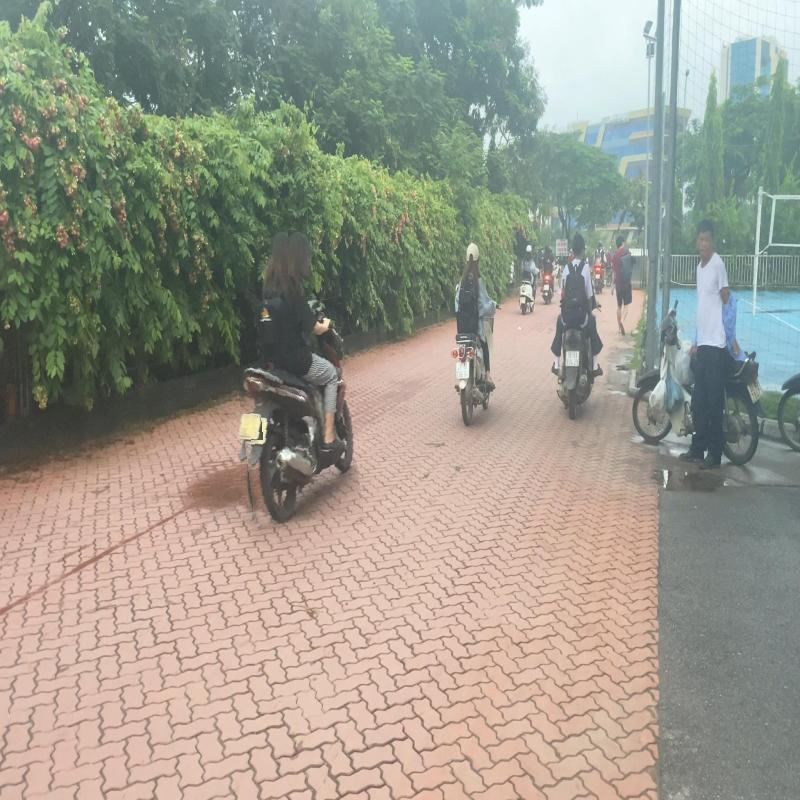licenseplate: (238, 412, 263, 441)
motorcyclist: (228, 225, 355, 525)
nohelmet: (288, 231, 310, 276)
